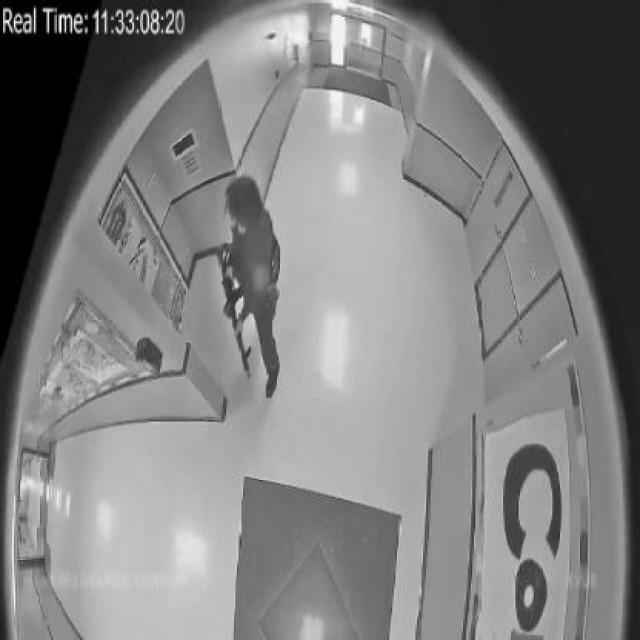weapon: (215, 248, 258, 378)
